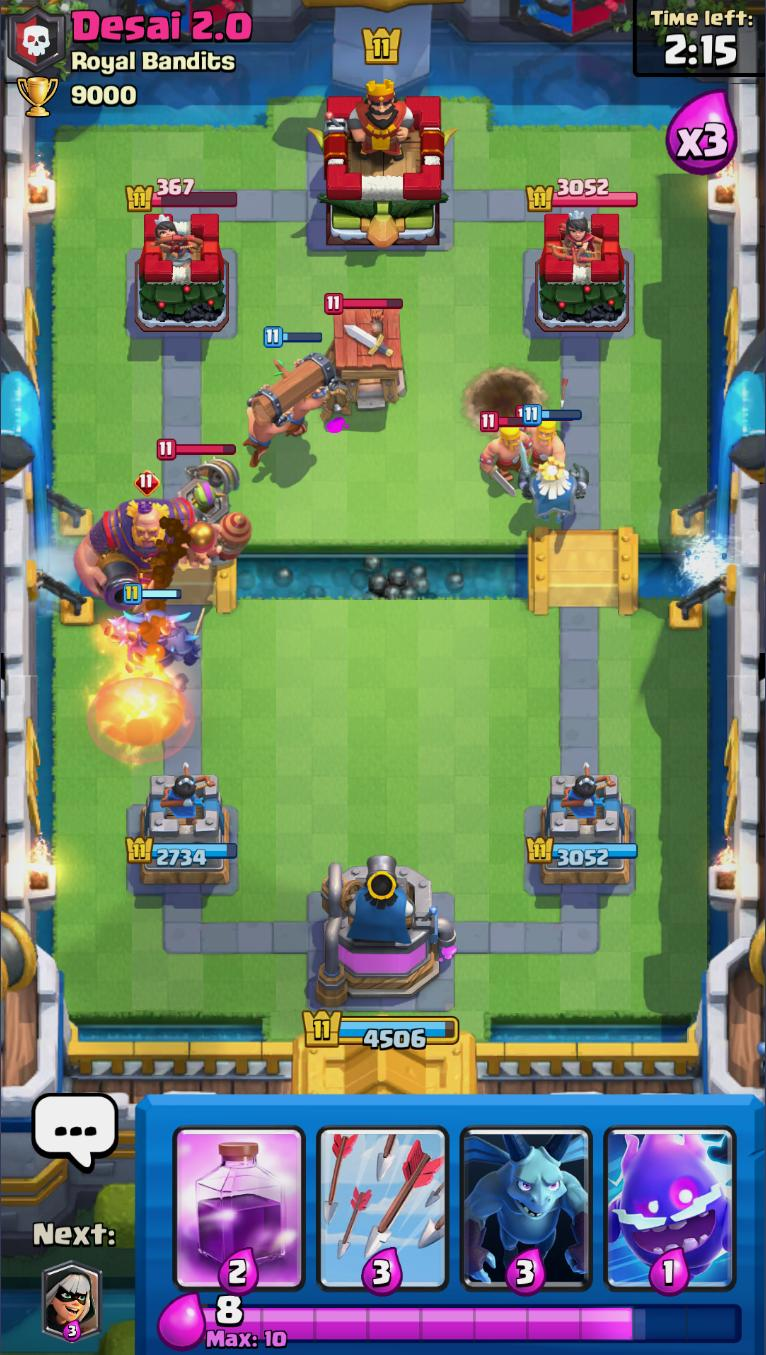ArrowDeck: (311, 1098, 454, 1300)
BanditNext: (42, 1265, 104, 1342)
Barbarian: (477, 408, 534, 498), (518, 403, 571, 471)
BarbarianHut: (319, 293, 411, 417)
ElectroSpiritDeck: (601, 1097, 740, 1295)
Elixir: (202, 1297, 745, 1350)
EnemyTower: (524, 212, 634, 333), (125, 211, 232, 333)
EvoRoyaleGiant: (73, 470, 215, 612)
GoblinMachine: (154, 438, 252, 569)
KingTower: (308, 82, 462, 250)
MinionsDeck: (454, 1096, 600, 1297)
MyBattleRam: (242, 326, 336, 470)
MyKingHP: (304, 1007, 462, 1051)
MyKingTower: (317, 854, 459, 1008)
MyPekka: (104, 579, 205, 675)
MyPrincessTower: (128, 771, 239, 896), (529, 769, 640, 886)
MyPrincessTowerHP: (127, 835, 240, 867), (528, 837, 640, 869)
MyRoyaleGhost: (518, 404, 591, 519)
PrincessTower: (150, 215, 205, 268), (550, 216, 607, 267)
RageDeck: (169, 1094, 313, 1295)
TowerPrincessHP: (529, 178, 641, 212), (129, 178, 241, 211)
